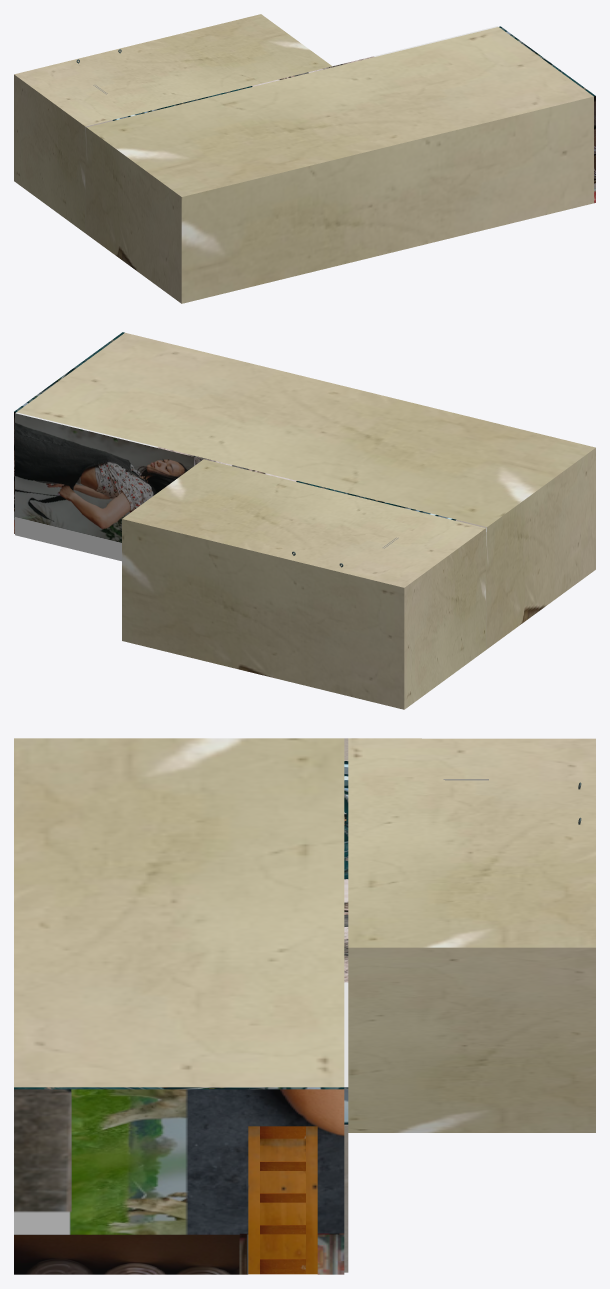
The model's file is entorno.glb.
The picture shows the model from 3 angles, top to bottom: view 1: azimuth 30°, elevation 25°; view 2: azimuth 150°, elevation 25°; view 3: azimuth 270°, elevation 25°; orthographic projection. The views are drawn at different scales.
Visible parts, largest first — view 1: walls-col; view 2: walls-col; view 3: walls-col, door_06.001-col.
Boxes of the visible parts, x1,y1,x2,y2 form: walls-col: (14, 14, 595, 303); walls-col: (14, 332, 595, 709); walls-col: (14, 738, 595, 1274); door_06.001-col: (248, 1126, 317, 1274).
Size of the model in its own units: 10.05 by 2.57 by 7.05.
Materials: 1 (1 with a texture image).
